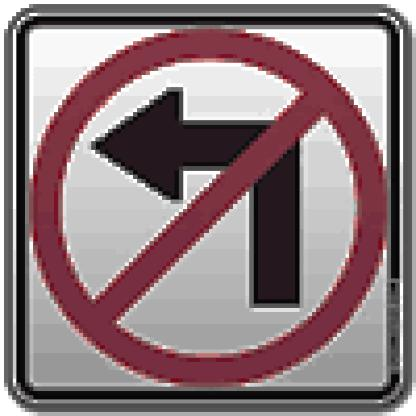No left turn: (27, 25, 388, 394)
